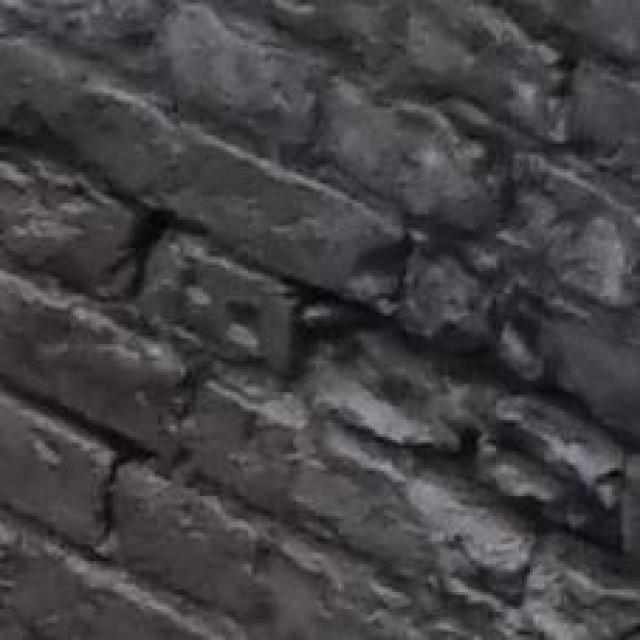Crack: (300, 190, 640, 633)
